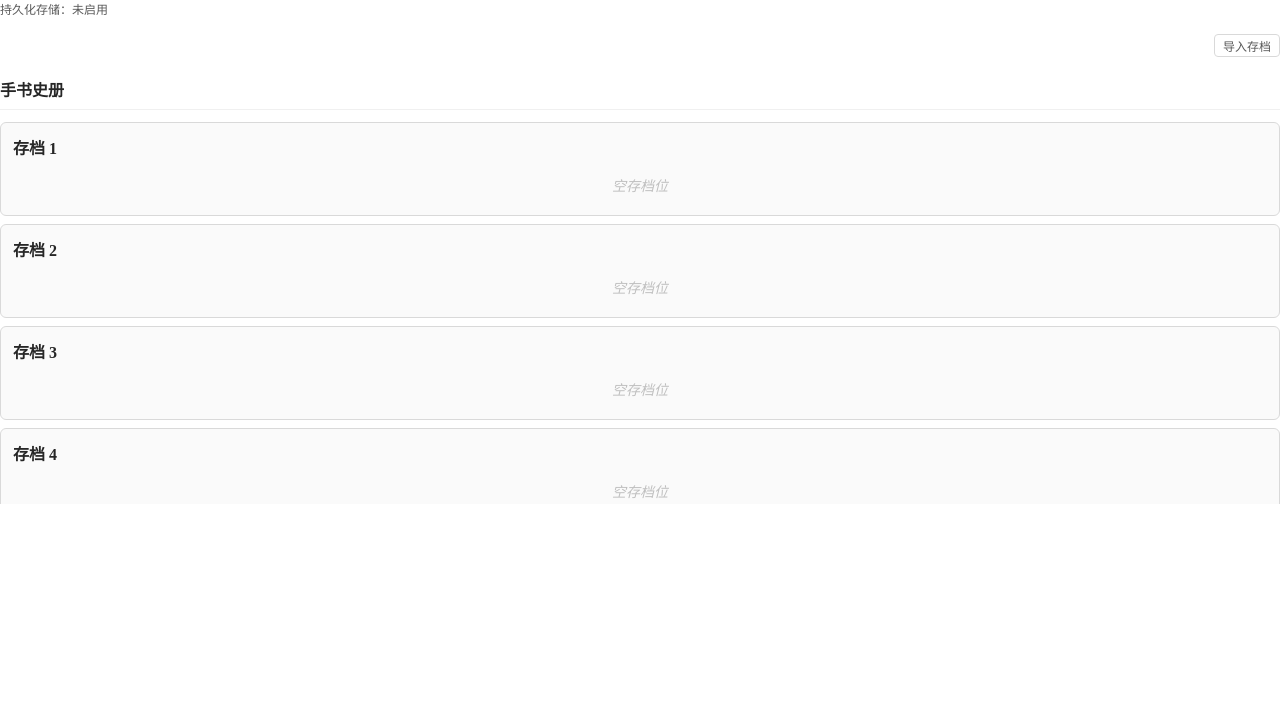
Scenario: SaveLoadModal › shows name input when clicking empty manual slot in save mode
The image size is (1280, 720).
What coordinates should you click on to do the following:
click the element with test id "slot-slot1"
I would click on:
 (640, 169)
Its box is [0,122,1279,216].
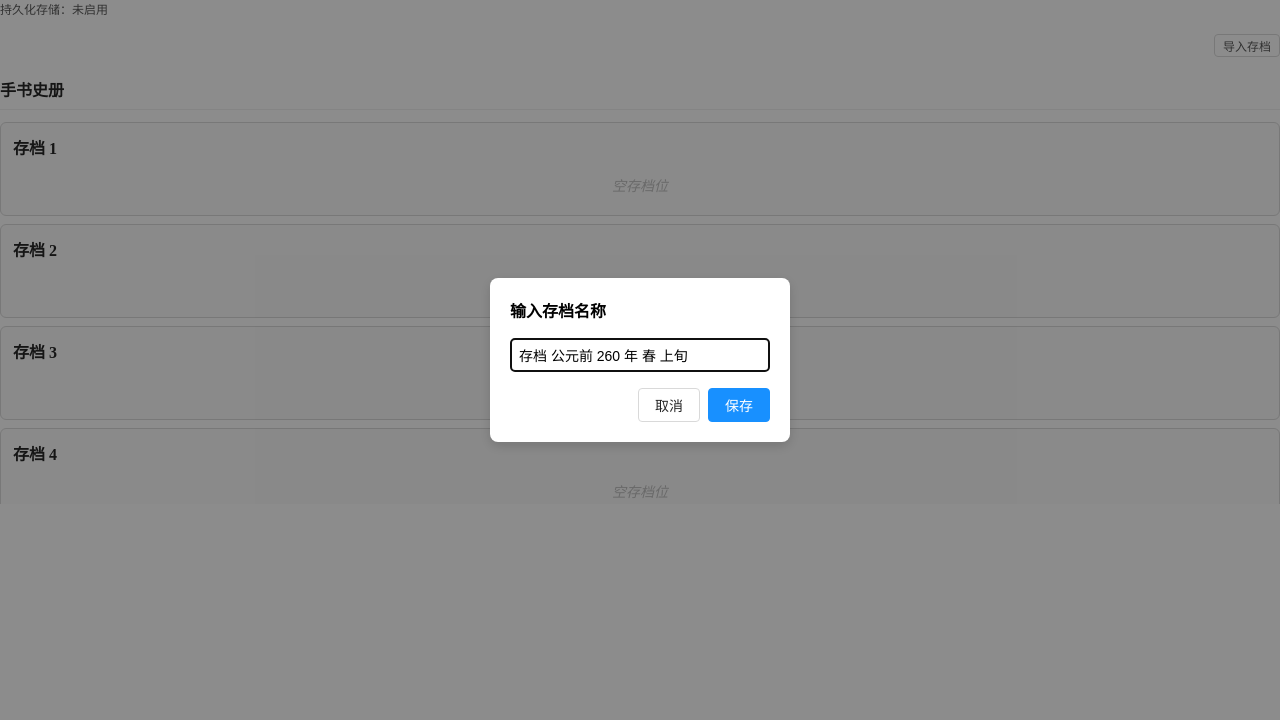
Now the field with test id "save-name-input" is shown, box [510,338,770,372]
Now the button with test id "save-confirm-btn" is shown, box [708,388,770,422]
